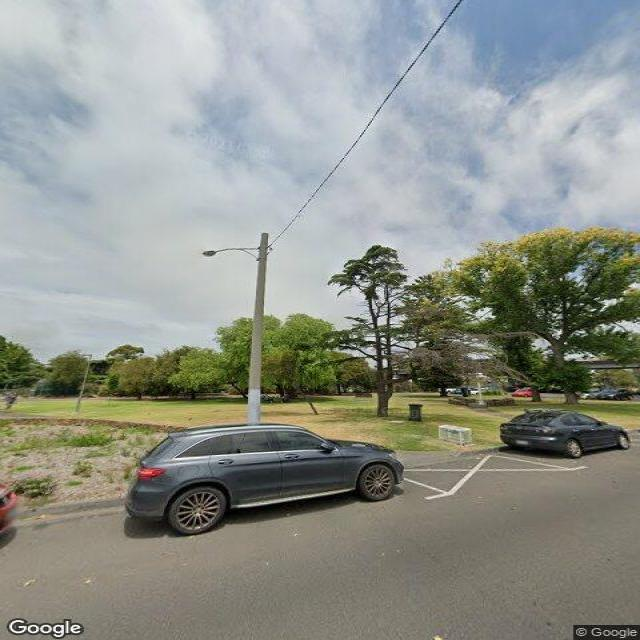concrete-pole: (247, 232, 268, 424)
streetlight: (202, 247, 260, 261)
